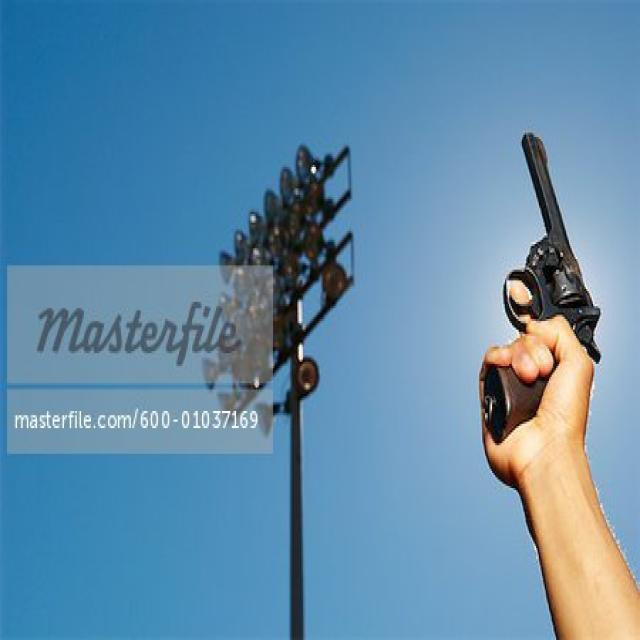HandGun: (505, 133, 602, 366)
